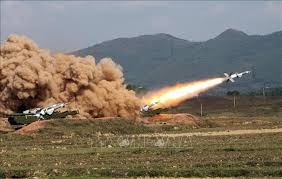ten_lua: (37, 100, 71, 117), (224, 66, 254, 83), (137, 99, 160, 114)
